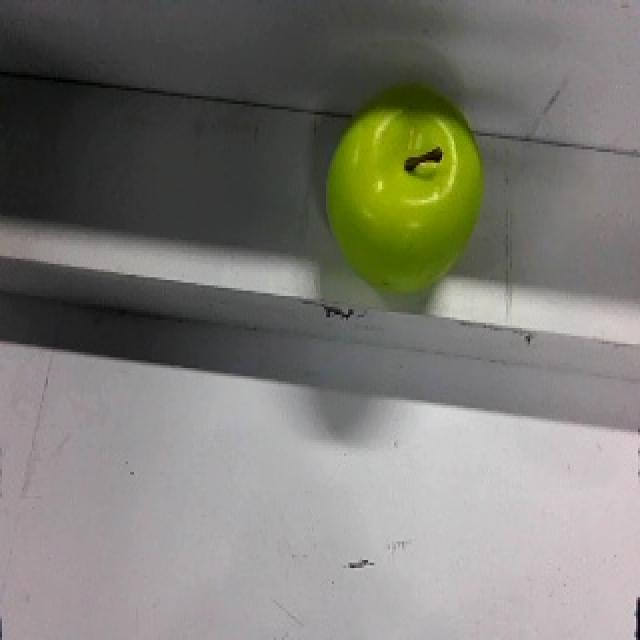apple: (323, 80, 484, 302)
